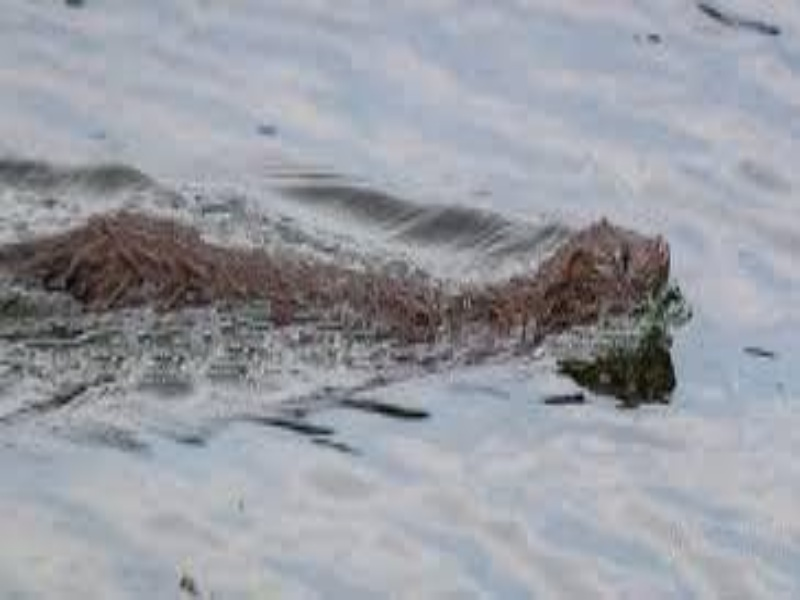minkish: (1, 205, 676, 354)
